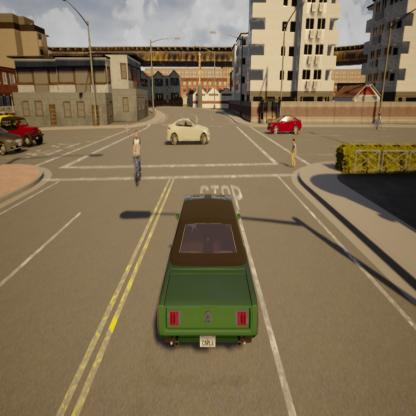Cars: (152, 188, 265, 359), (162, 114, 214, 148), (0, 113, 47, 150), (255, 109, 305, 138), (0, 122, 29, 160)
Pedestrian: (287, 136, 300, 172)
